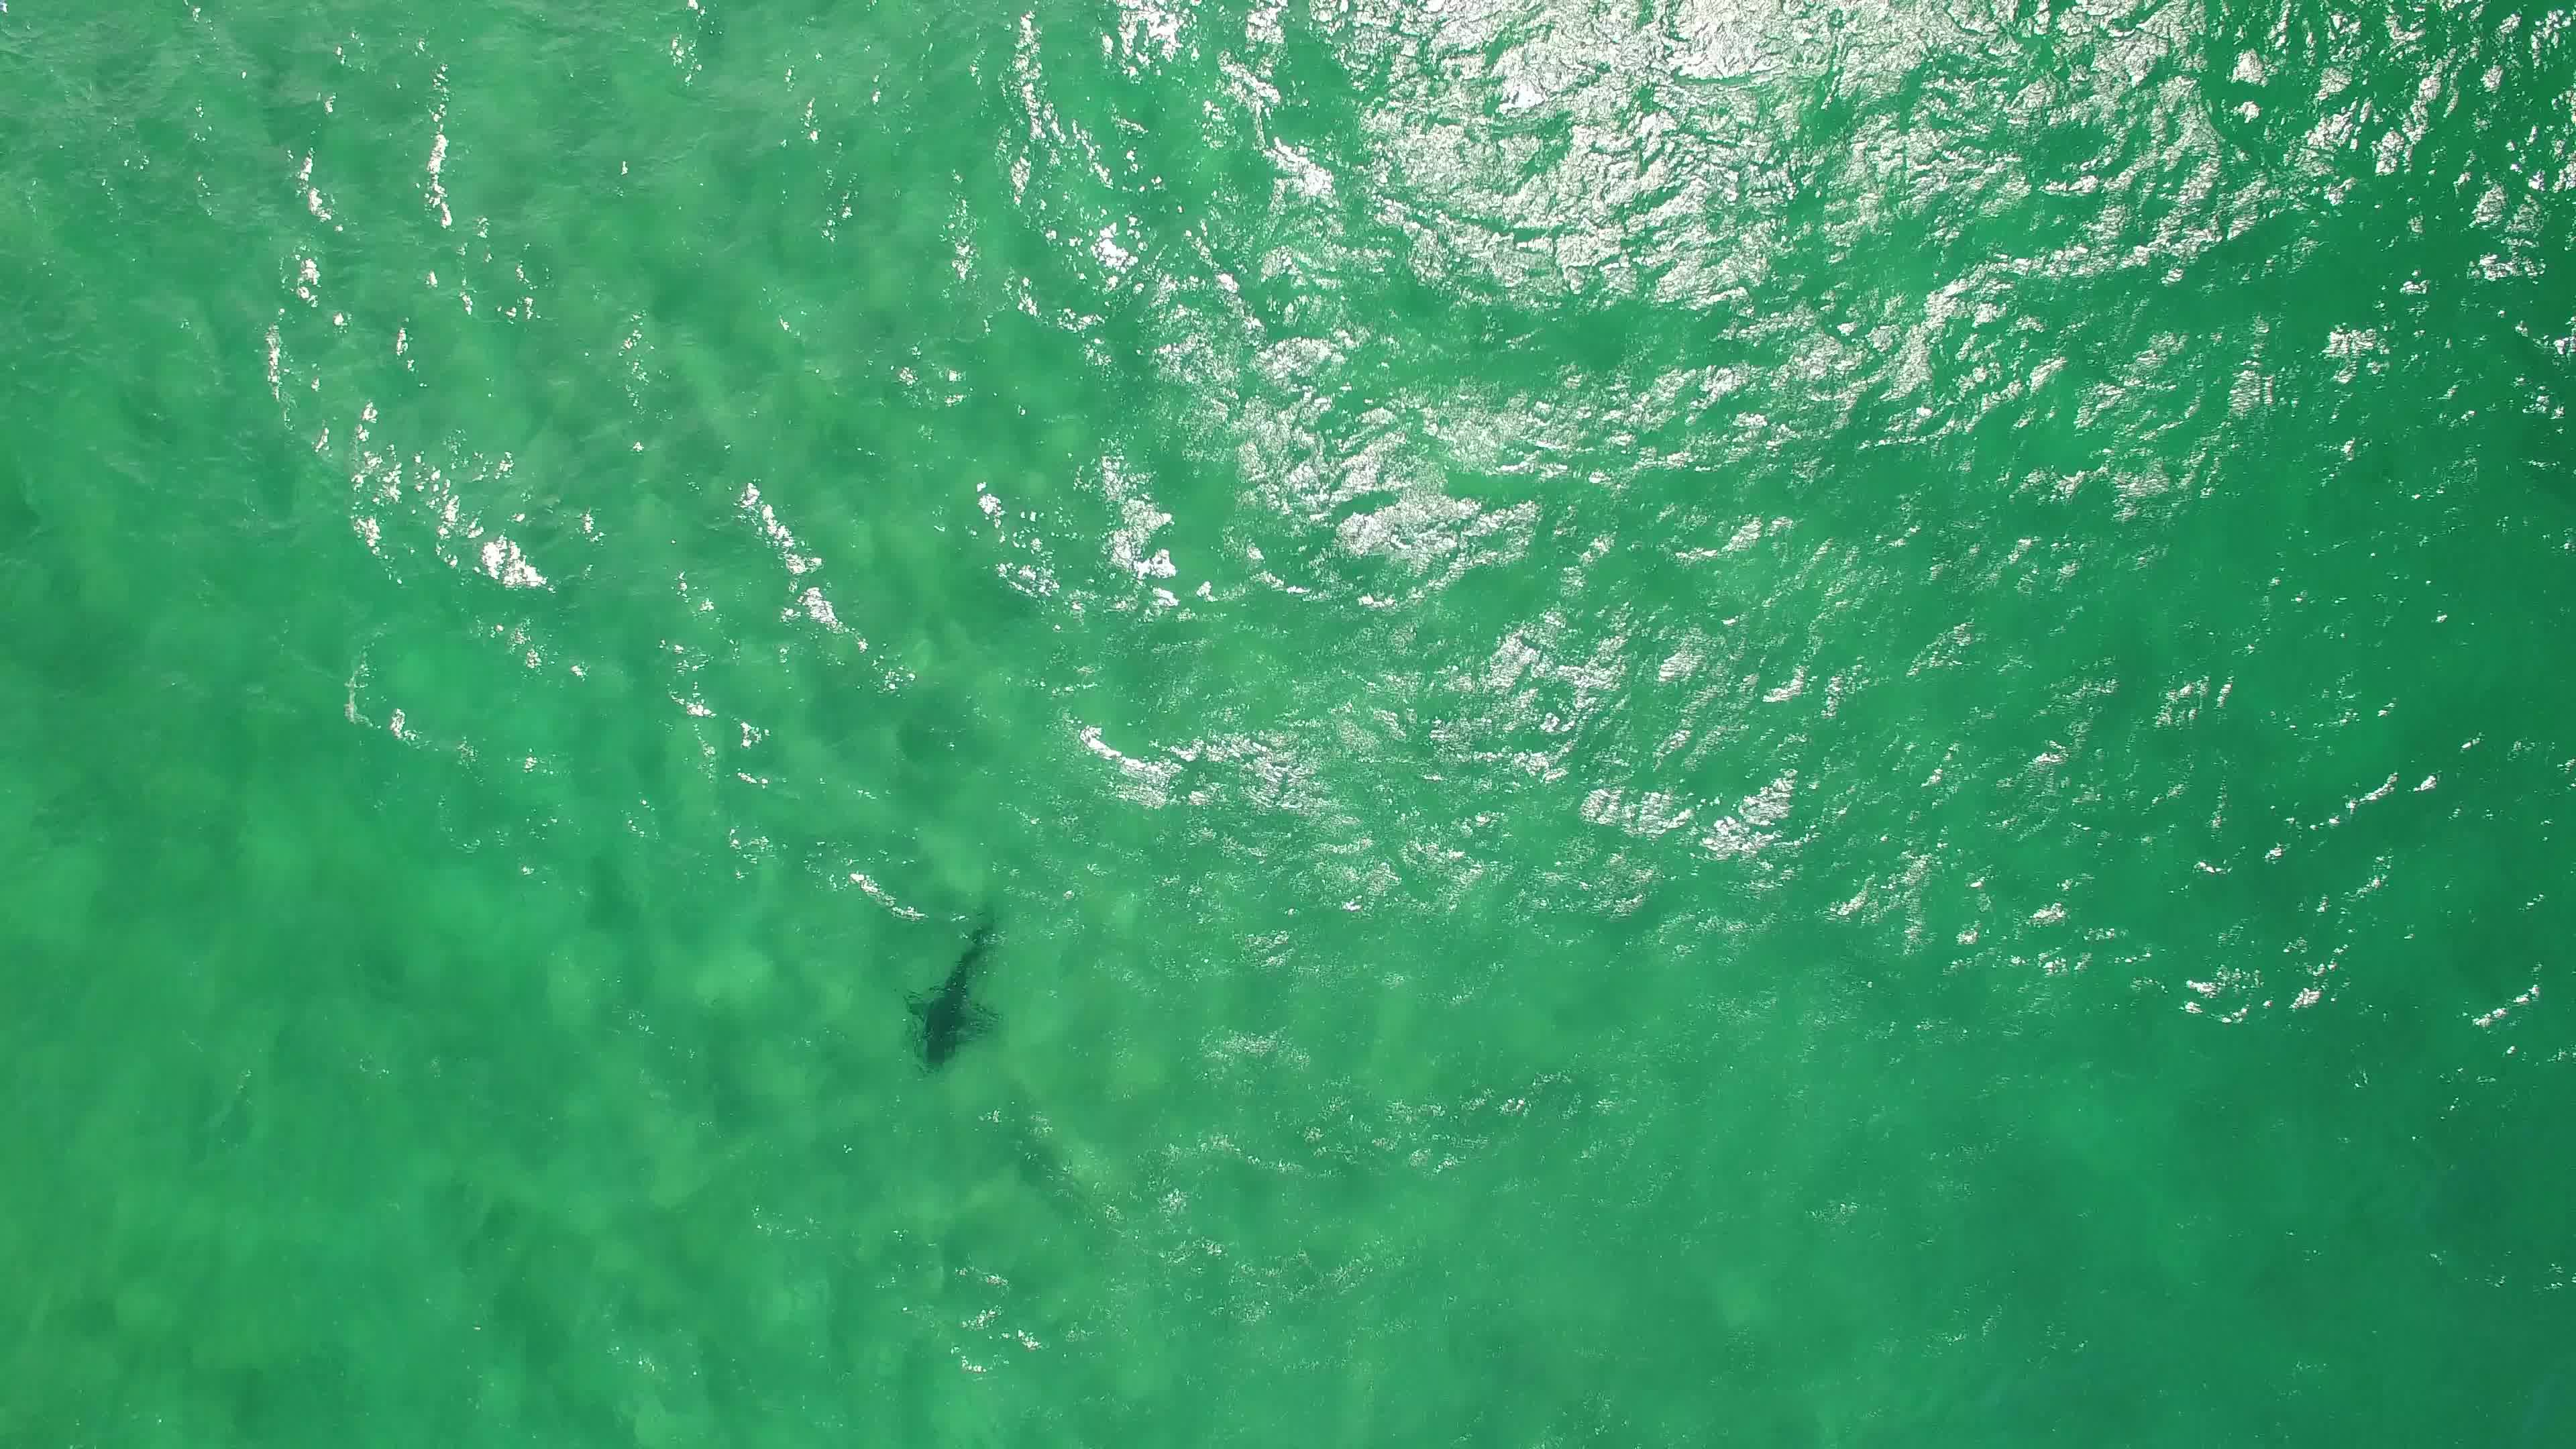shark: (893, 913, 1008, 1077)
